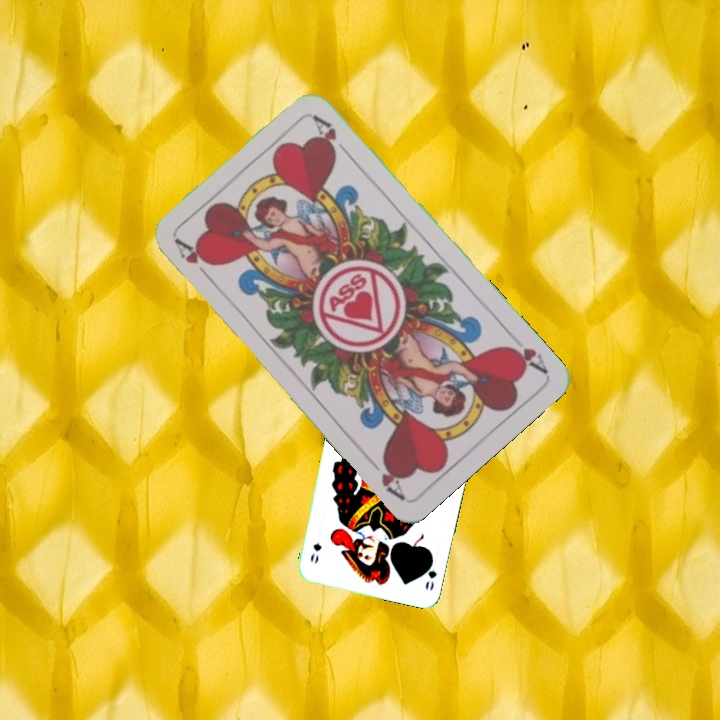GO: (421, 552, 439, 593)
HA: (501, 328, 550, 376), (171, 235, 216, 284)
